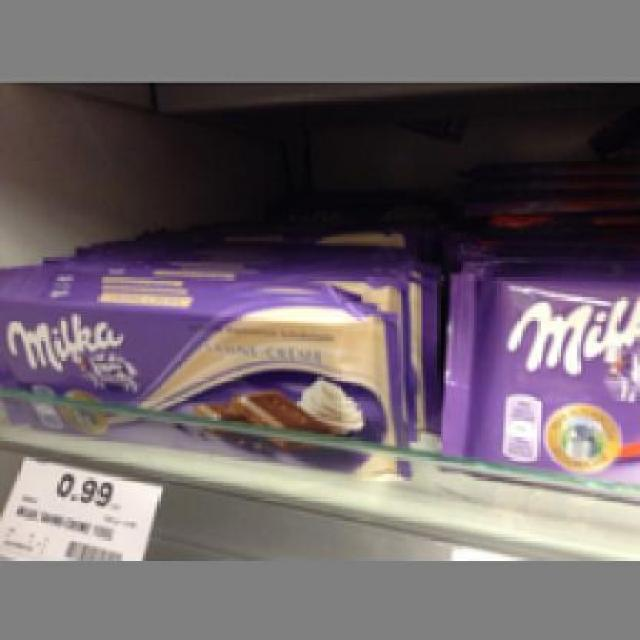Chocolate: (0, 266, 412, 484), (432, 271, 638, 480)
